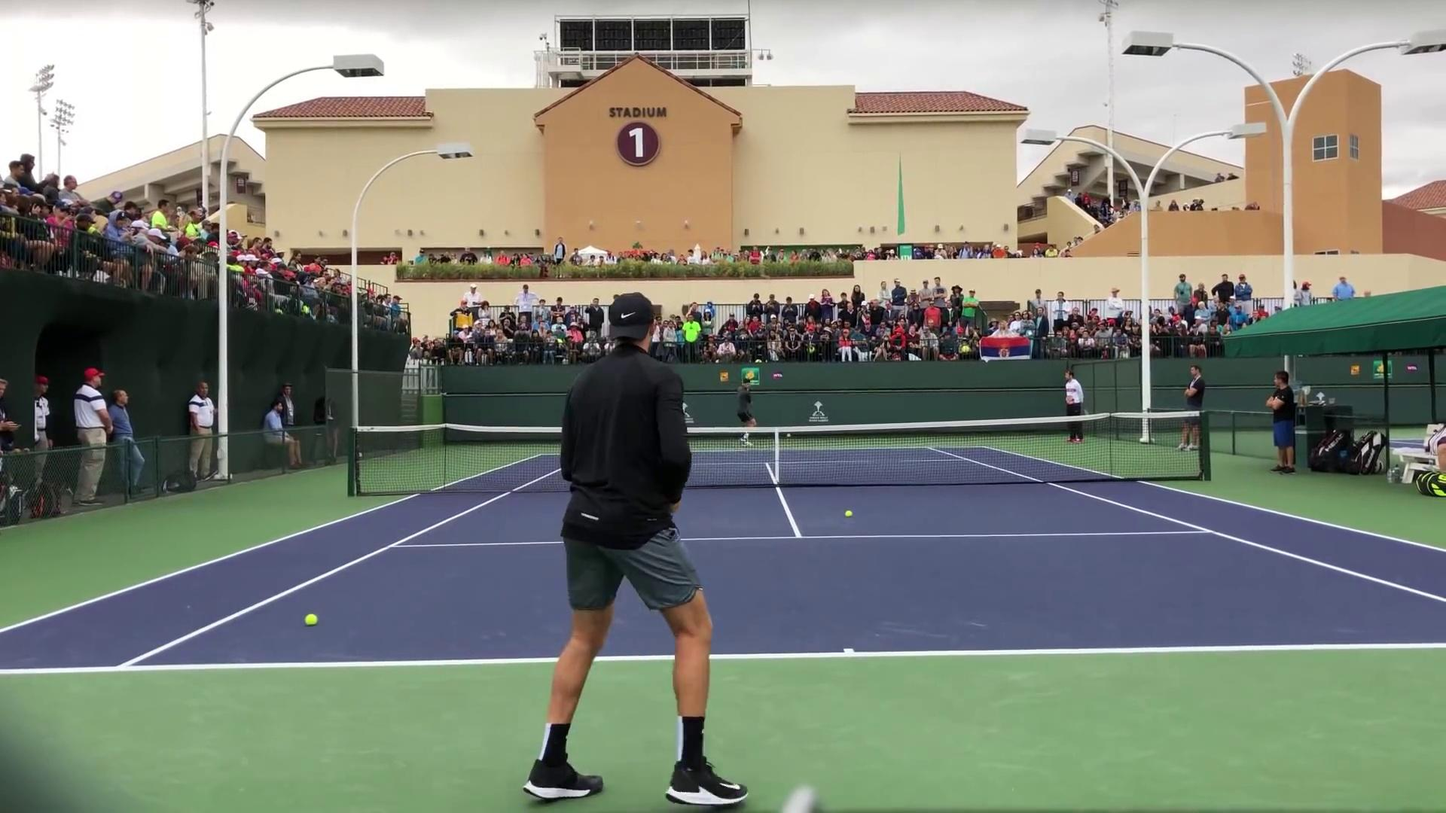ball: (304, 613, 319, 626), (844, 510, 854, 518), (786, 433, 792, 439)
